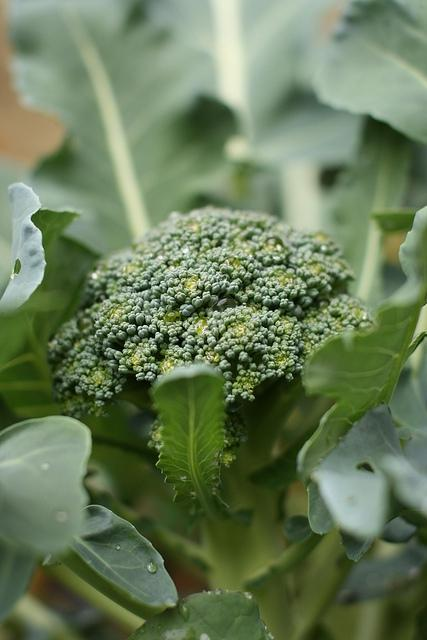broccoli: (47, 204, 378, 418)
